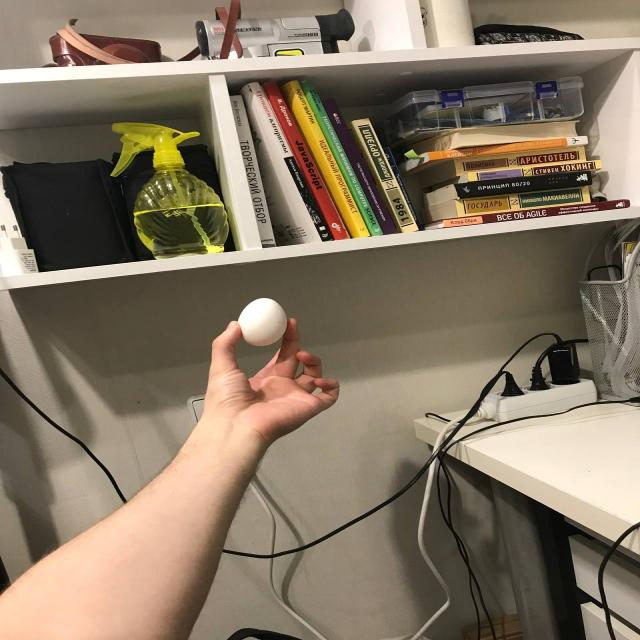egg: (241, 296, 288, 348)
